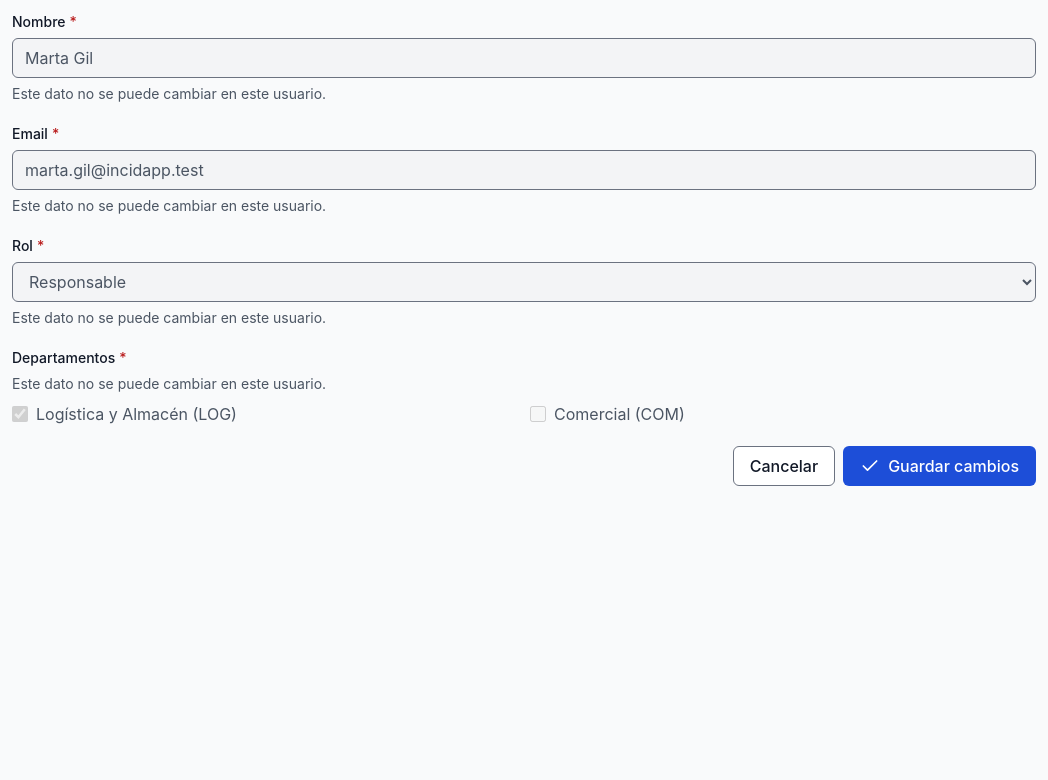
it: UserForm · edición › sin ningún campo editable, no envía y lo explica en un aviso
Click the button "Guardar cambios" at [940, 466], box [843,446,1036,486]
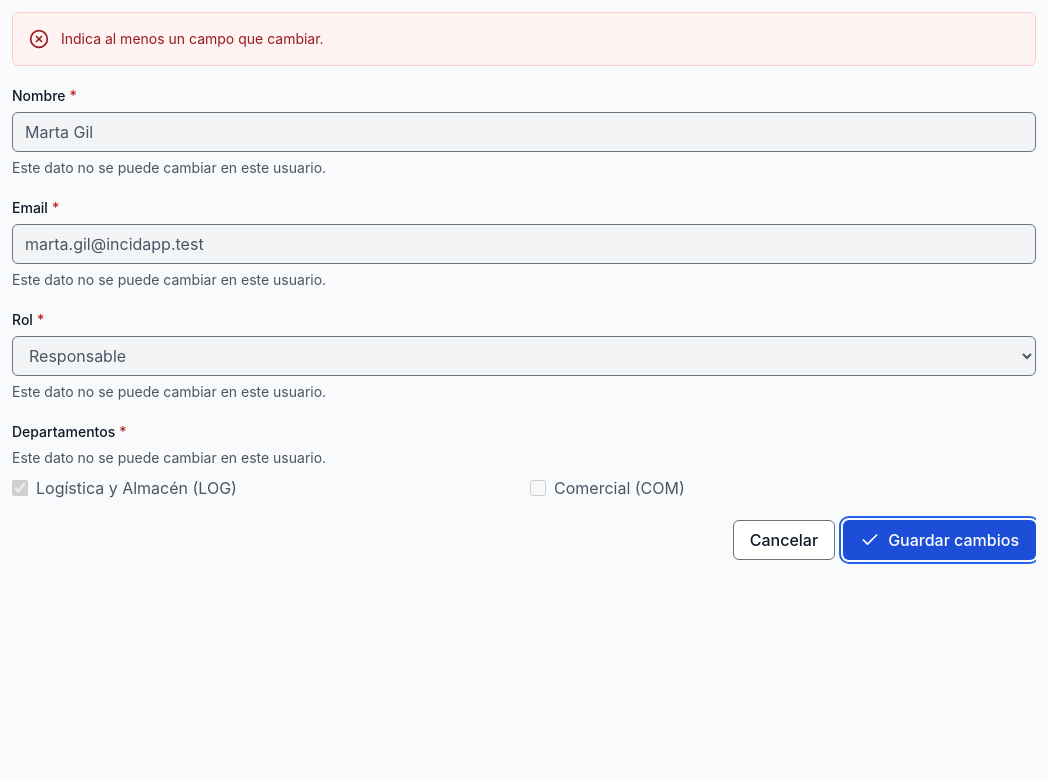
Expected: the message reads "Indica al menos un campo que cambiar.", [61,30,324,47]
